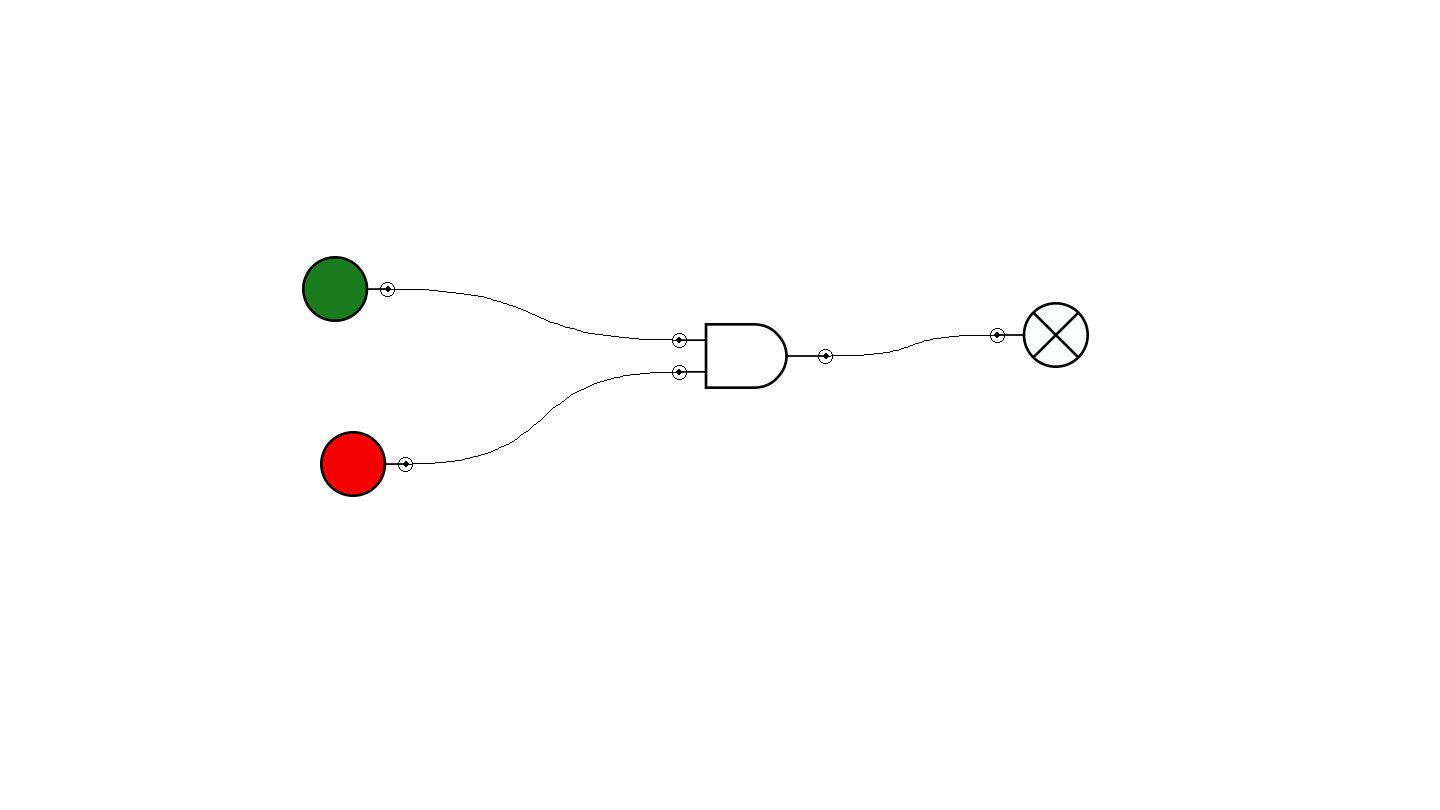and: (672, 323, 833, 389)
bulb: (990, 302, 1089, 368)
switch_False: (320, 431, 413, 497)
switch_True: (302, 256, 395, 322)
